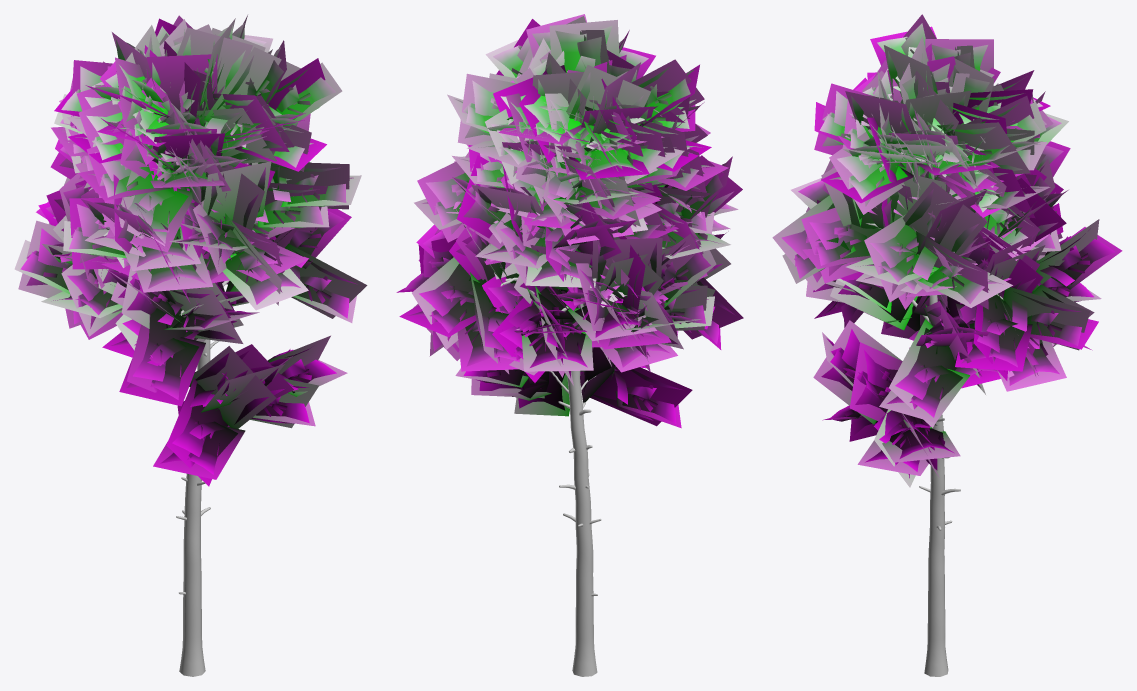
File: pine_01_1.FBX
3 views of the same model, side by side, from view 1: azimuth 30°, elevation 25°; view 2: azimuth 150°, elevation 25°; view 3: azimuth 270°, elevation 25° (orthographic). The views are drawn at different scales.
Visible parts, largest first — view 1: pine_leaves_01_1_shadow, pine_leaves_01_1_lod_0, pine_tree_01_1_lod_0; view 2: pine_leaves_01_1_shadow, pine_leaves_01_1_lod_0, pine_tree_01_1_lod_0; view 3: pine_leaves_01_1_shadow, pine_leaves_01_1_lod_0, pine_tree_01_1_lod_0.
Part boxes in pixels (<box>): pine_leaves_01_1_shadow: <box>14,15,367,486</box>; pine_leaves_01_1_lod_0: <box>20,23,357,474</box>; pine_tree_01_1_lod_0: <box>176,280,229,676</box>; pine_leaves_01_1_shadow: <box>396,14,743,428</box>; pine_leaves_01_1_lod_0: <box>404,25,734,423</box>; pine_tree_01_1_lod_0: <box>500,272,601,676</box>; pine_leaves_01_1_shadow: <box>772,14,1122,487</box>; pine_leaves_01_1_lod_0: <box>781,23,1114,478</box>; pine_tree_01_1_lod_0: <box>866,223,1003,676</box>.
Size of what is drawn, in the model's own units: 11.04 by 21.95 by 11.07.
